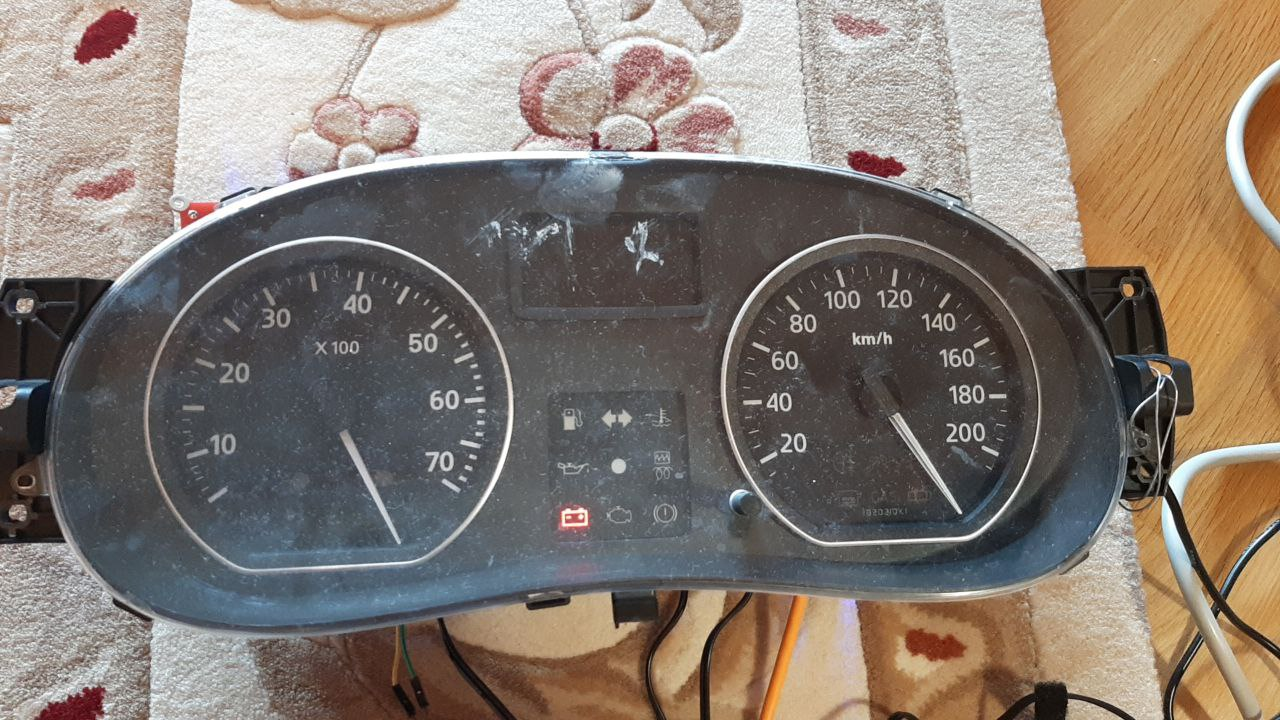accumulator: (557, 508, 596, 531)
